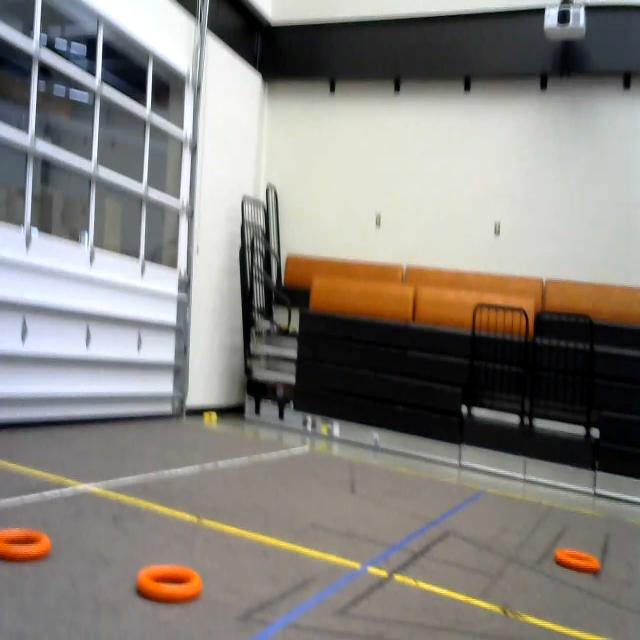note: (133, 556, 216, 608), (0, 521, 54, 569), (549, 538, 604, 576)
